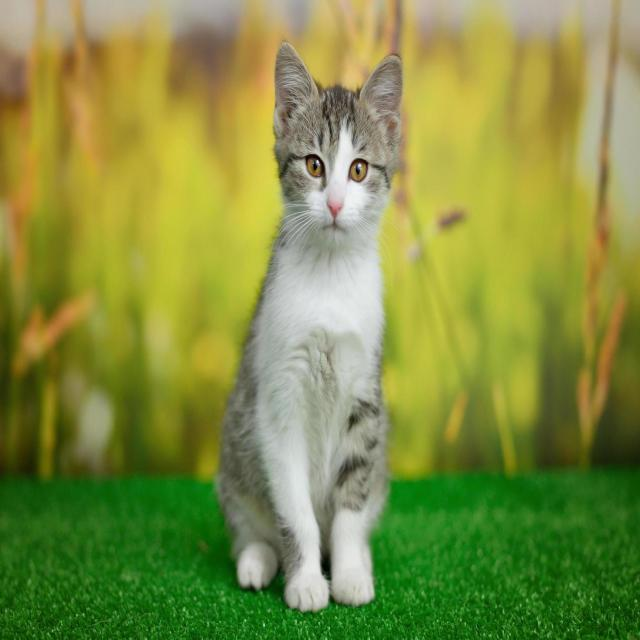cat: (215, 37, 404, 613)
